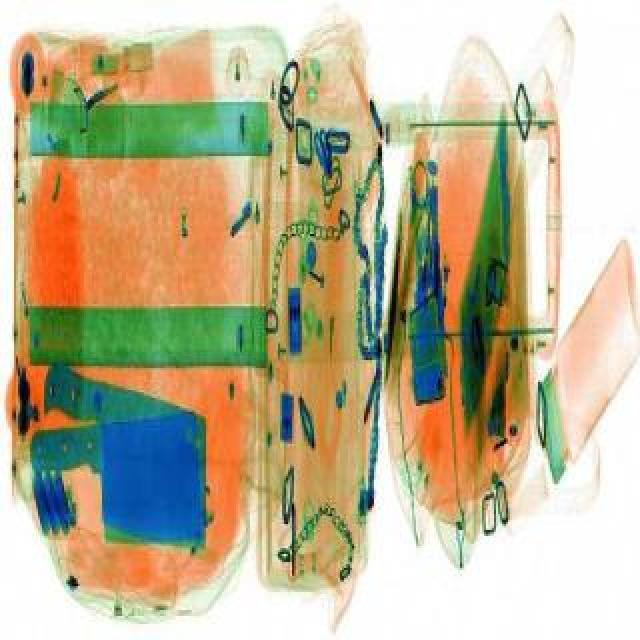knife: (0, 356, 248, 558), (26, 406, 210, 550)
